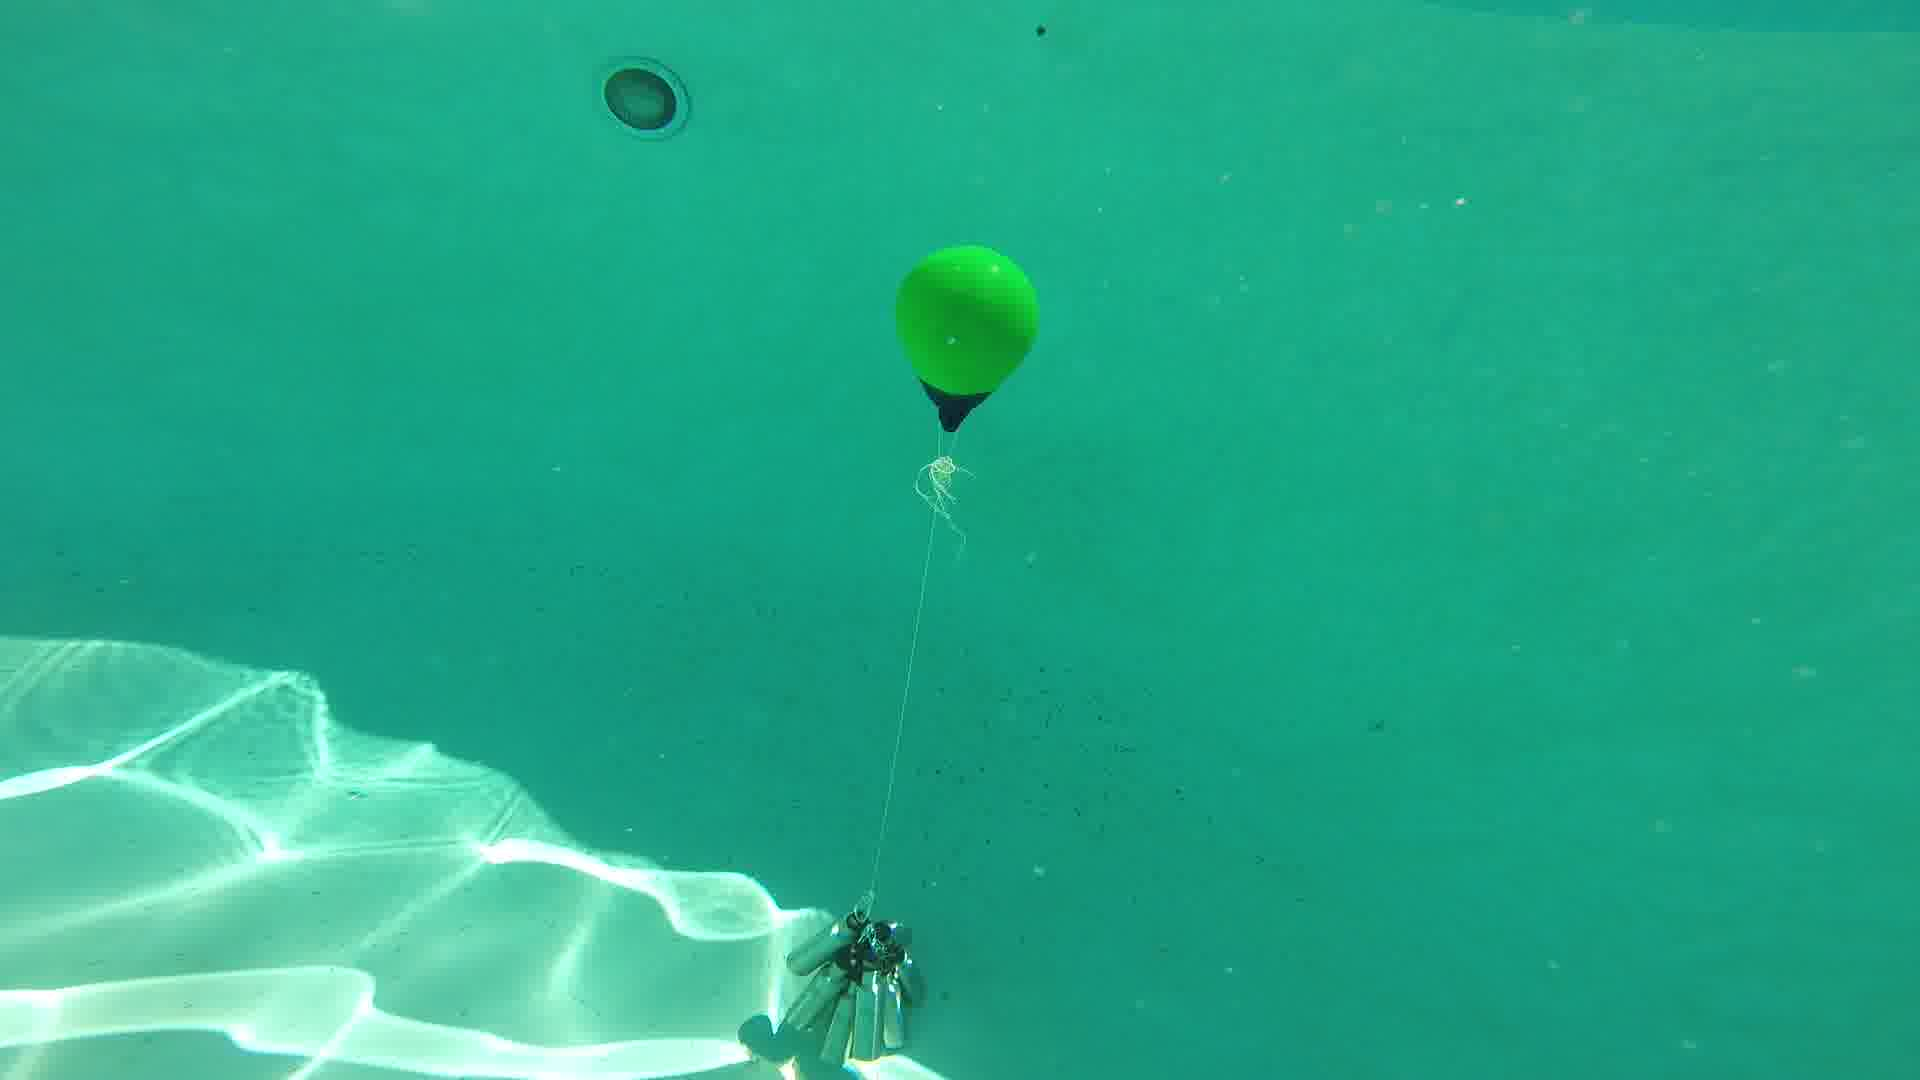yellow_buoy: (890, 244, 1038, 431)
